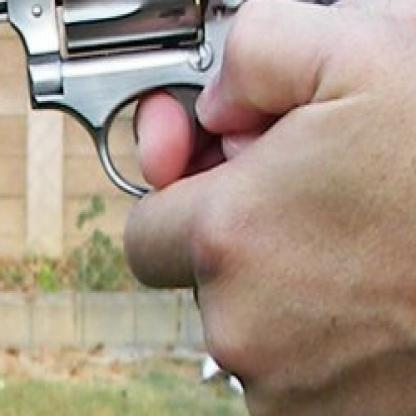gun: (0, 0, 375, 243)
